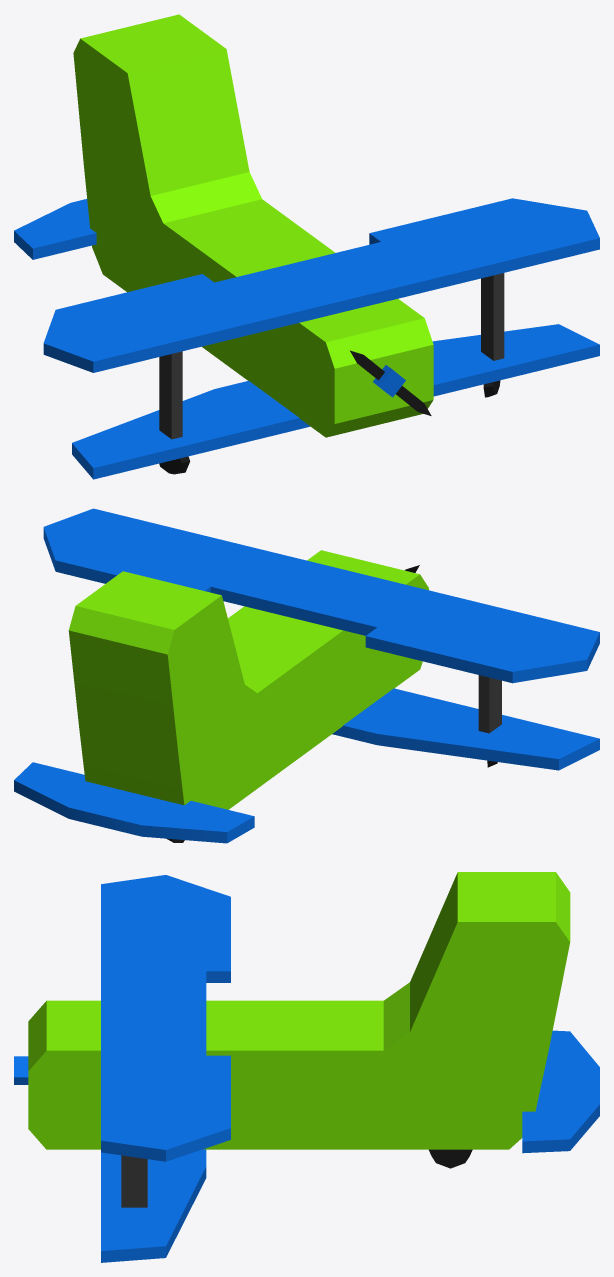
Rendered from Airplane_D.FBX.
The picture shows the model from 3 angles, top to bottom: view 1: azimuth 30°, elevation 25°; view 2: azimuth 150°, elevation 25°; view 3: azimuth 270°, elevation 25°; orthographic projection. The views are drawn at different scales.
Parts seen in each view (by area): view 1: Airplane; view 2: Airplane; view 3: Airplane.
Boxes of the visible parts, bbox=[...] form: Airplane: bbox=[14, 14, 599, 479]; Airplane: bbox=[14, 508, 599, 843]; Airplane: bbox=[14, 872, 599, 1262].
Size of the model in its own units: 150 by 68.74 by 135.
